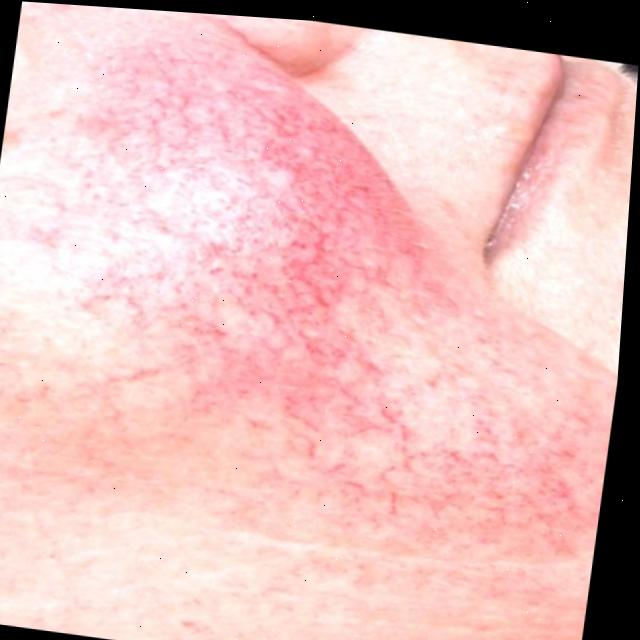Rosacea: (55, 45, 428, 465)
